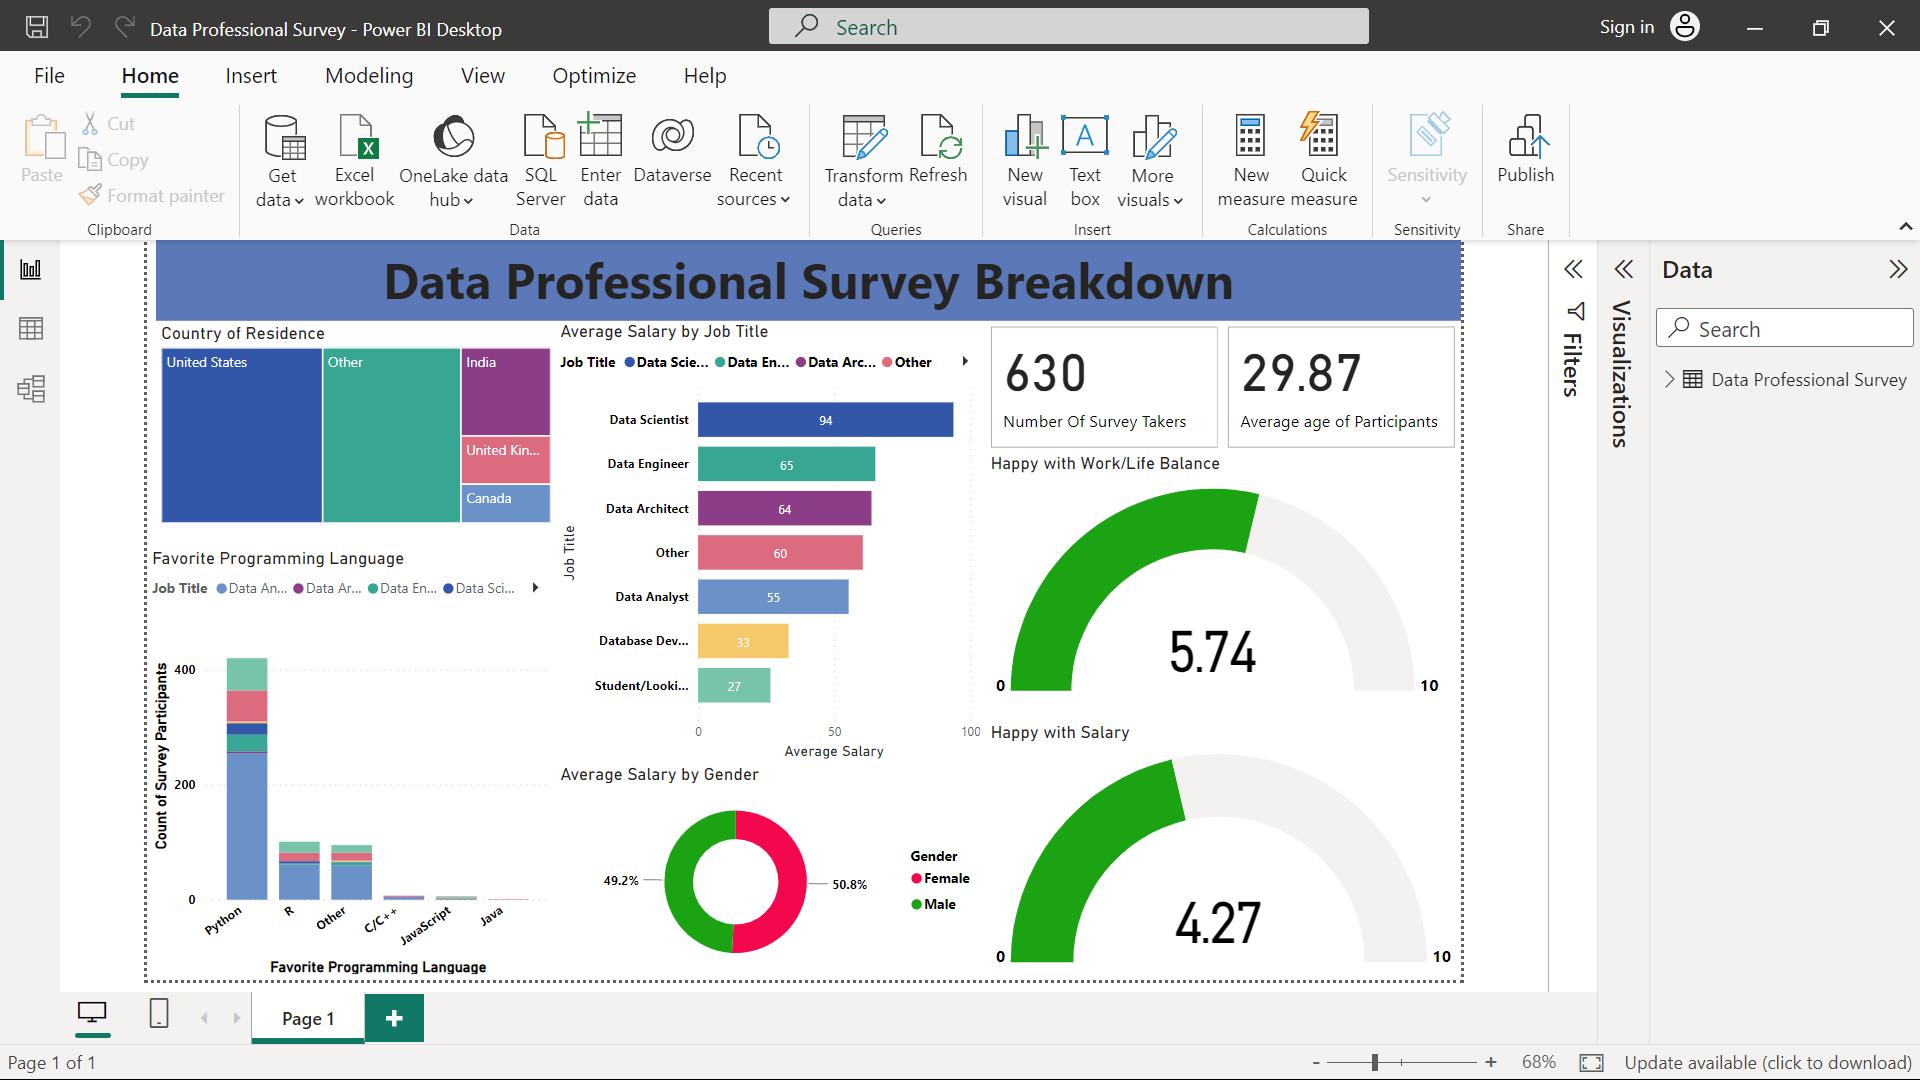

What the dashboard file says about the page in this screenshot:
{"tool":"powerbi","page":{"name":"Page 1","canvas":[1280,720],"ordinal":0},"visuals":[{"type":"textbox","box":[9.1,0,1270.9,78.7],"z":0},{"type":"cardVisual","fields":{"Data":["Count(Data Professional Survey.Unique ID)","Avg(Data Professional Survey.Q10 - Current Age)"]},"box":[817,78.7,463,128.6],"z":1000},{"type":"barChart","title":"Average Salary by Job Title","fields":{"Category":["Data Professional Survey.Q1 - Which Title Best Fits your Current Role?.1"],"Y":["Avg(Data Professional Survey.Average Salary)"],"Series":["Data Professional Survey.Q1 - Which Title Best Fits your Current Role?.1"]},"box":[397.9,78.7,419.1,431.2],"z":2000},{"type":"columnChart","title":"Favorite Programming Language","fields":{"Category":["Data Professional Survey.Q5 - Favorite Programming Language.1"],"Y":["Count(Data Professional Survey.Unique ID)"],"Series":["Data Professional Survey.Q1 - Which Title Best Fits your Current Role?.1"]},"box":[0,299.6,397.9,420.6],"z":3000},{"type":"treemap","title":"Country of Residence","fields":{"Group":["Data Professional Survey.Q11 - Which Country do you live in?.1"],"Values":["CountNonNull(Data Professional Survey.Q11 - Which Country do you live in?.1)"]},"box":[9.1,80.2,388.8,199.7],"z":4000},{"type":"gauge","title":"Happy with Work/Life Balance","fields":{"Y":["Avg(Data Professional Survey.Q6 - How Happy are you in your Current Position with the following? (Work/Life Balance))"],"MinValue":["Min(Data Professional Survey.Q6 - How Happy are you in your Current Position with the following? (Work/Life Balance))"],"MaxValue":["Max(Data Professional Survey.Q6 - How Happy are you in your Current Position with the following? (Work/Life Balance))"]},"box":[817,207.3,450.9,251.2],"z":5000},{"type":"gauge","title":"Happy with Salary","fields":{"Y":["Avg(Data Professional Survey.Q6 - How Happy are you in your Current Position with the following? (Salary))"],"MinValue":["Min(Data Professional Survey.Q6 - How Happy are you in your Current Position with the following? (Salary))"],"MaxValue":["Max(Data Professional Survey.Q6 - How Happy are you in your Current Position with the following? (Salary))"]},"box":[817,469,463,251.2],"z":6000},{"type":"donutChart","title":"Average Salary by Gender","fields":{"Category":["Data Professional Survey.Q9 - Male/Female?"],"Y":["Avg(Data Professional Survey.Average Salary)"]},"box":[397.9,509.9,419.1,210.3],"z":7000}]}

Visuals, with their boxes on the page's 1280x720 design canvas (x1, y1, x2, y2). These are canvas units, not pixel positions in the 1920x1080 screenshot, which may show the page scaled, cropped or inside an application window:
textbox: [x1=9, y1=0, x2=1280, y2=79]
cardVisual - Count(Data Professional Survey.Unique ID) x Avg(Data Professional Survey.Q10 - Current Age): [x1=817, y1=79, x2=1280, y2=207]
"Average Salary by Job Title" barChart: [x1=398, y1=79, x2=817, y2=510]
"Favorite Programming Language" columnChart: [x1=0, y1=300, x2=398, y2=720]
"Country of Residence" treemap: [x1=9, y1=80, x2=398, y2=280]
"Happy with Work/Life Balance" gauge: [x1=817, y1=207, x2=1268, y2=458]
"Happy with Salary" gauge: [x1=817, y1=469, x2=1280, y2=720]
"Average Salary by Gender" donutChart: [x1=398, y1=510, x2=817, y2=720]
